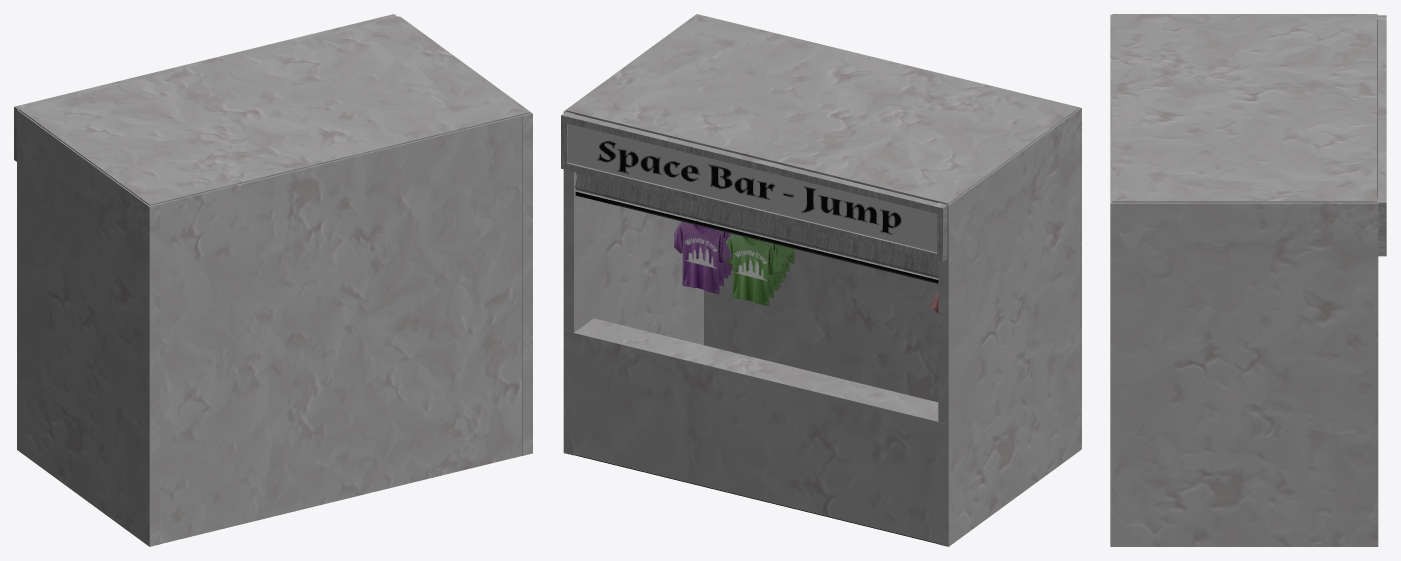
Rendered from shop2.fbx.
3 renders of one model, left to right at view 1: azimuth 30°, elevation 25°; view 2: azimuth 150°, elevation 25°; view 3: azimuth 270°, elevation 25°, orthographic.
Parts seen in each view (by area): view 1: pCube32; view 2: pCube32, pPlane1 (×2); view 3: pCube32.
Boxes of the visible parts, box(x1,y1,x2,y2) form: pCube32: box(14, 14, 532, 546); pCube32: box(561, 14, 1081, 546); pPlane1 (×2): box(674, 222, 783, 306); pCube32: box(1110, 14, 1386, 546).
Bounding box in the file's own units: 193 × 161 × 117.
Materials: 5 (5 with a texture image).
